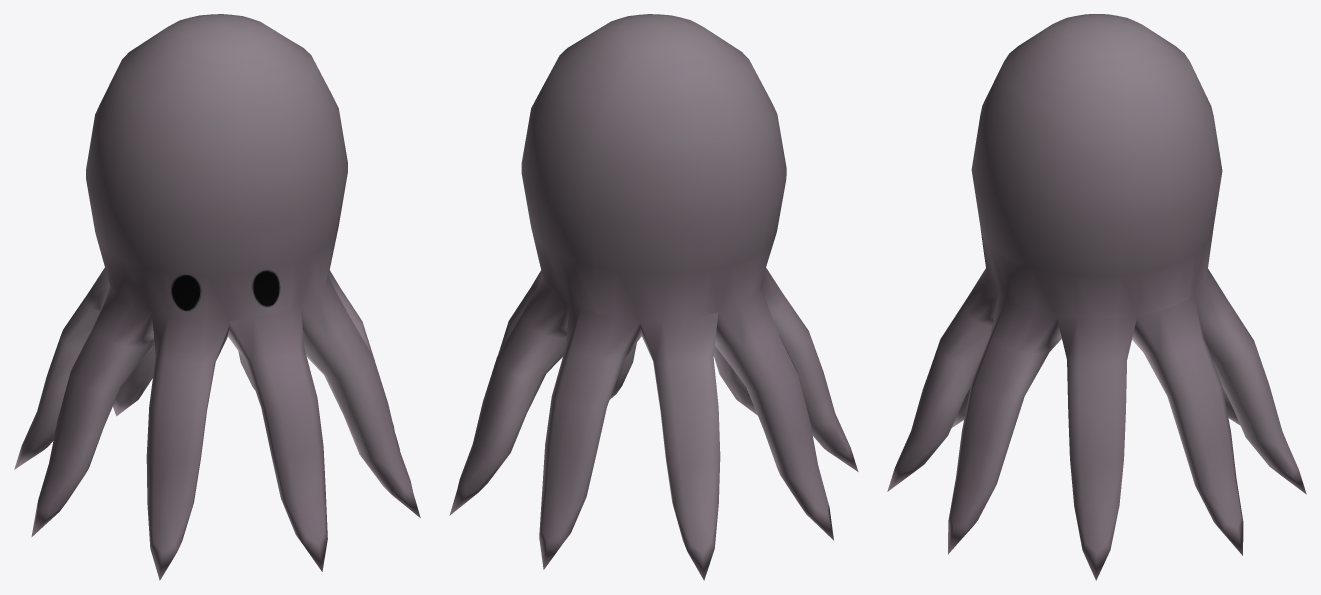
File: Octopus.fbx
The picture shows the model from 3 angles, left to right: view 1: azimuth 30°, elevation 25°; view 2: azimuth 150°, elevation 25°; view 3: azimuth 270°, elevation 25°; orthographic projection.
Visible parts, largest first — view 1: Octopus; view 2: Octopus; view 3: Octopus.
Boxes of the visible parts, left/top/right/bottom form: Octopus: left=14, top=14, right=420, bottom=580; Octopus: left=449, top=14, right=858, bottom=580; Octopus: left=887, top=14, right=1306, bottom=580.
Bounding box in the file's own units: 11.62 × 14.31 × 11.62.
1 material, 1 textured.
